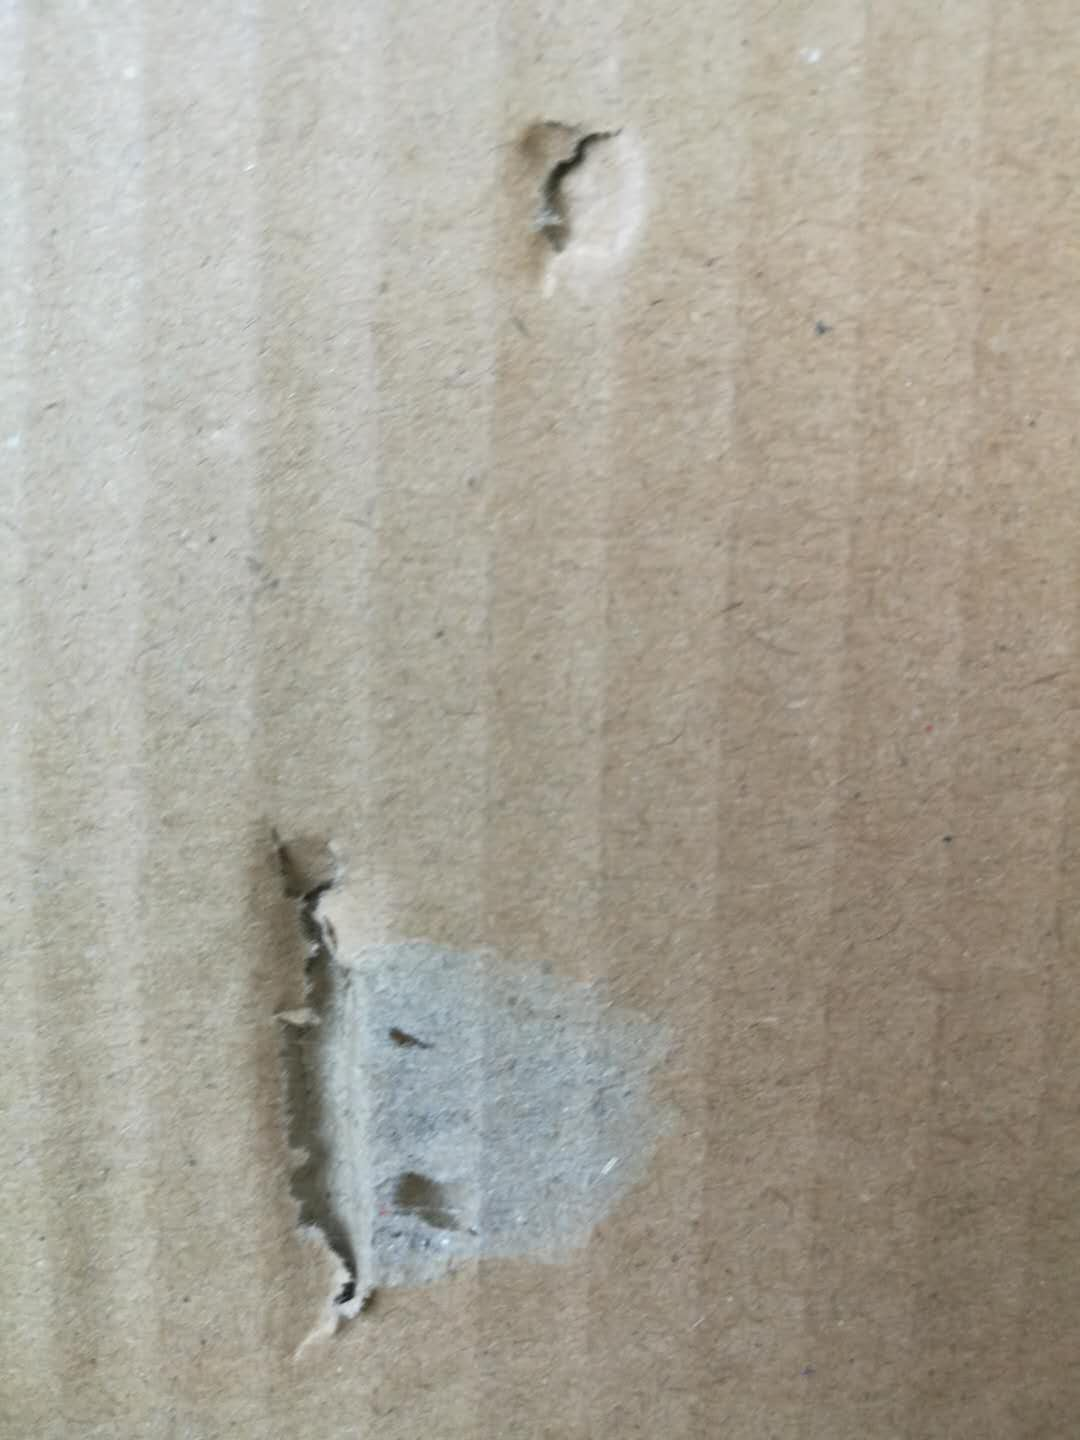defect: (177, 781, 722, 1381), (472, 63, 666, 338)
